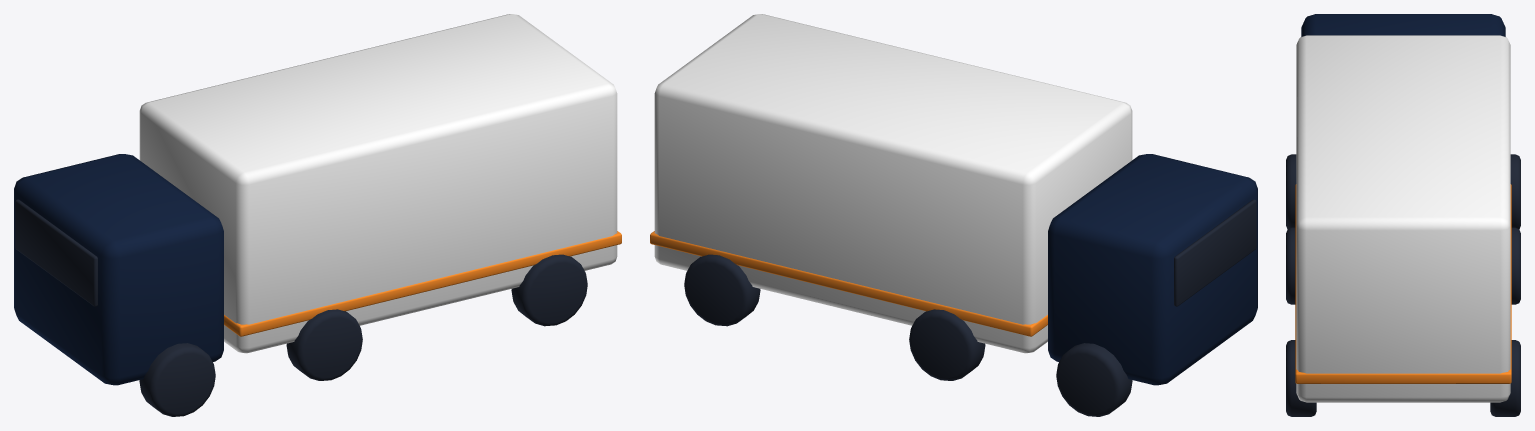
Rendered from camion.glb.
3 renders of one model, left to right at view 1: azimuth 30°, elevation 25°; view 2: azimuth 150°, elevation 25°; view 3: azimuth 270°, elevation 25°, orthographic. The views are drawn at different scales.
Parts seen in each view (by area): view 1: remolque, cabina, ventana, llanta.004, franja, llanta, llanta.002; view 2: remolque, cabina, ventana, llanta.005, franja, llanta.001, llanta.003; view 3: remolque, cabina, franja, llanta, llanta.001, llanta.004, llanta.005, llanta.002, llanta.003.
Part boxes in pixels (bbox=[...]): remolque: bbox=[139, 14, 617, 353]; cabina: bbox=[14, 154, 223, 385]; ventana: bbox=[15, 199, 97, 306]; llanta.004: bbox=[139, 343, 215, 416]; franja: bbox=[224, 231, 621, 336]; llanta: bbox=[511, 254, 587, 326]; llanta.002: bbox=[286, 309, 362, 380]; remolque: bbox=[654, 14, 1132, 353]; cabina: bbox=[1048, 154, 1257, 385]; ventana: bbox=[1174, 199, 1256, 306]; llanta.005: bbox=[1056, 343, 1132, 416]; franja: bbox=[650, 231, 1047, 336]; llanta.001: bbox=[684, 254, 760, 326]; llanta.003: bbox=[909, 309, 985, 380]; remolque: bbox=[1296, 35, 1510, 402]; cabina: bbox=[1301, 14, 1505, 36]; franja: bbox=[1295, 184, 1511, 383]; llanta: bbox=[1286, 340, 1316, 416]; llanta.001: bbox=[1490, 340, 1520, 416]; llanta.004: bbox=[1286, 154, 1296, 229]; llanta.005: bbox=[1510, 154, 1520, 229]; llanta.002: bbox=[1286, 227, 1295, 304]; llanta.003: bbox=[1511, 227, 1520, 304].
Size of the model in its own units: 5.96 by 2.45 by 2.3.
